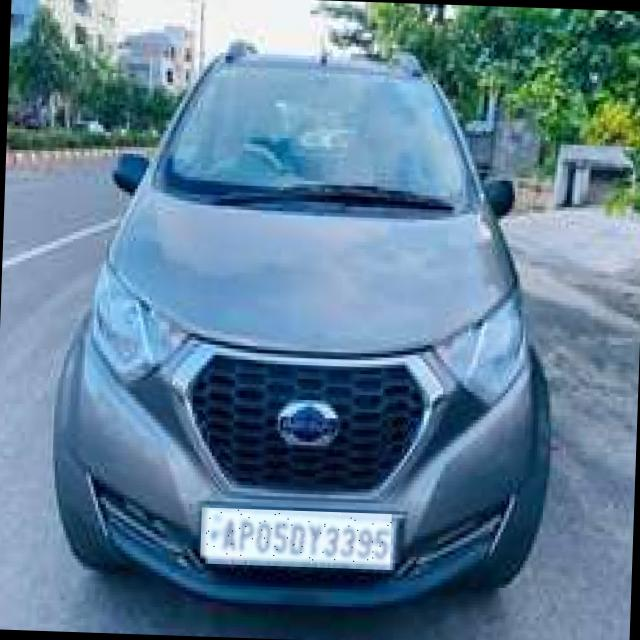Plate: (201, 509, 393, 568)
